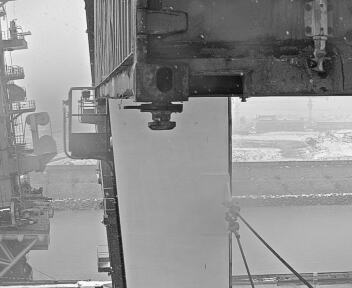twist_lock_1: (133, 97, 187, 136)
